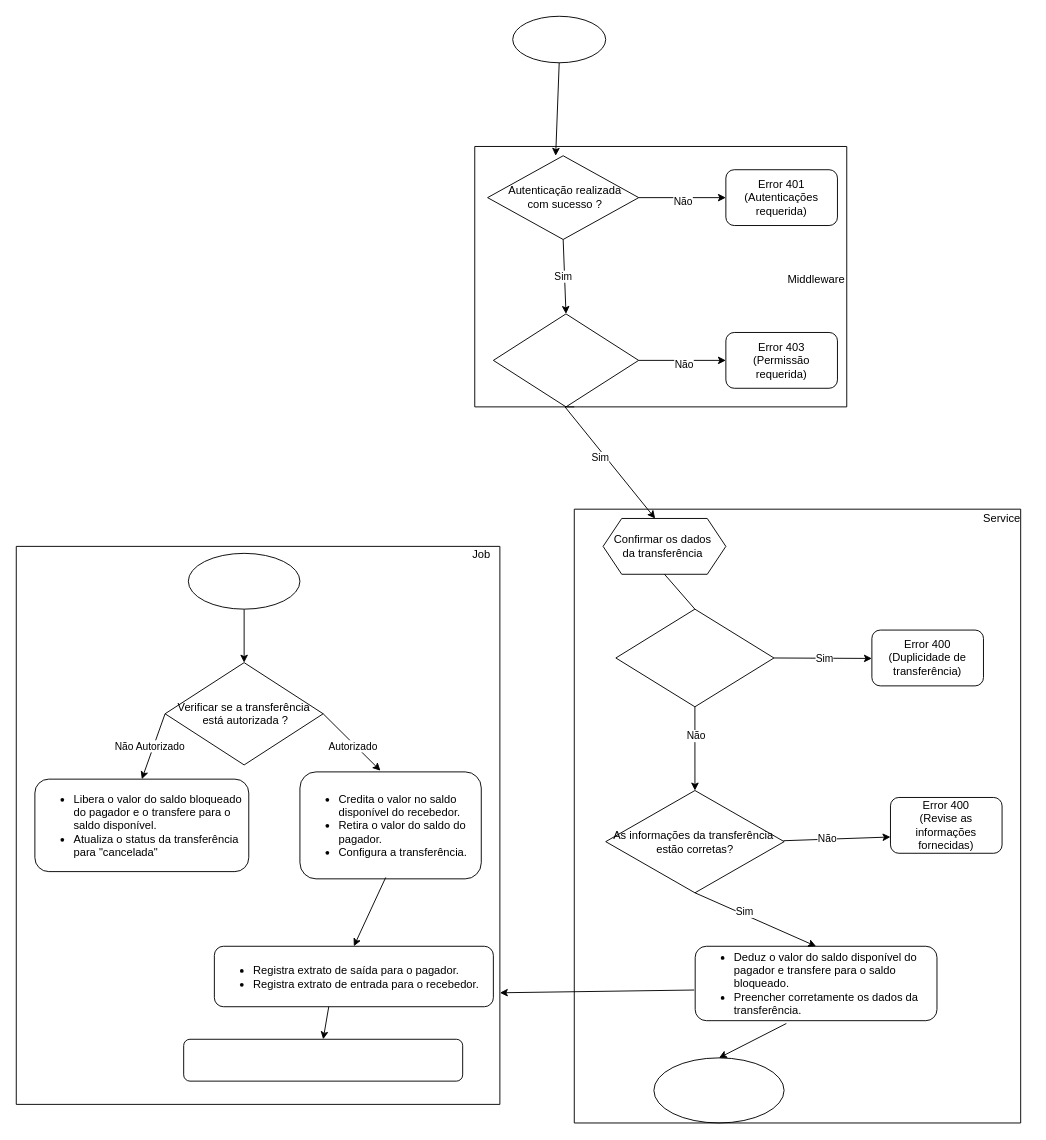
Some shapes in this 1046 by 1140 pixel diagram are drawn without their labels. Each missing label, with the centre of its shape:
Enviará uma notificação ao usuário ou lojista sobre o recebimento da transação.: point 323,1059
Executar a transação: point 243,580
Reprocessar a transação: point 718,1090
Request: point 559,39
Transação permitida para este usuário?: point 565,360
Trata-se de uma transferência duplicada?: point 694,657
